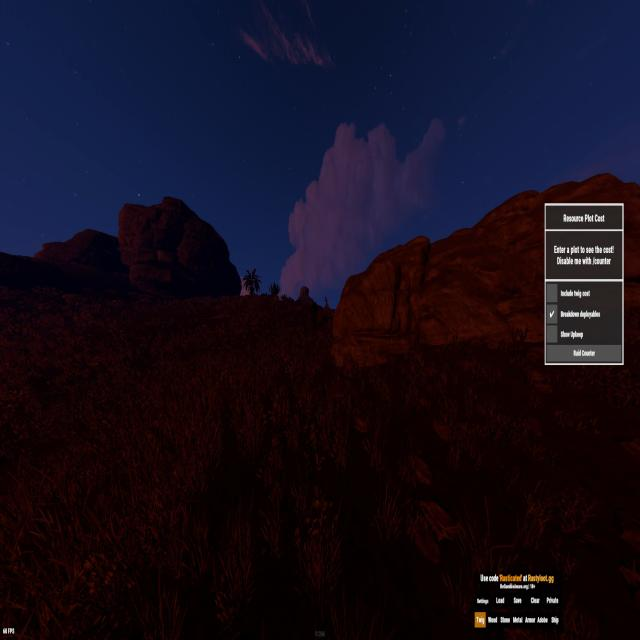Player: (324, 294, 328, 309)
